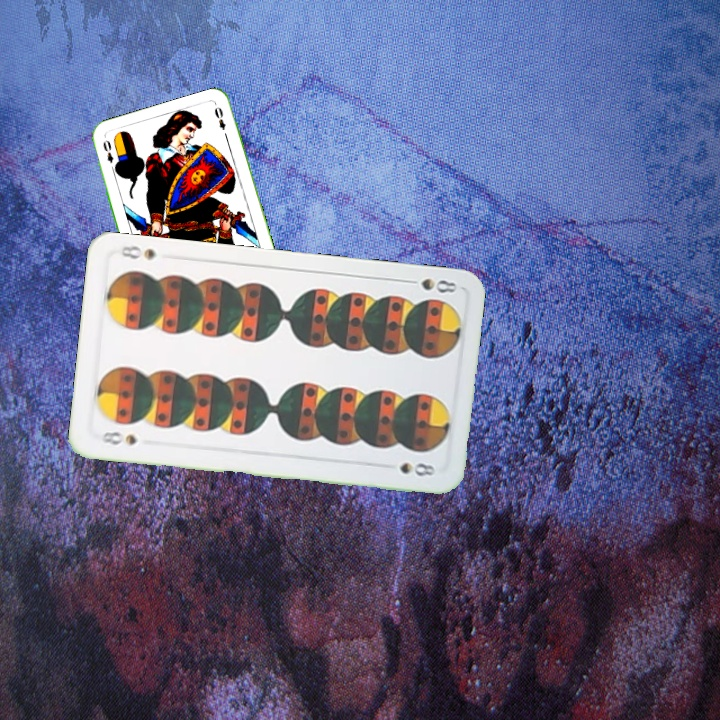EO: (99, 136, 119, 175)
S8: (401, 272, 460, 296), (96, 427, 140, 448)
